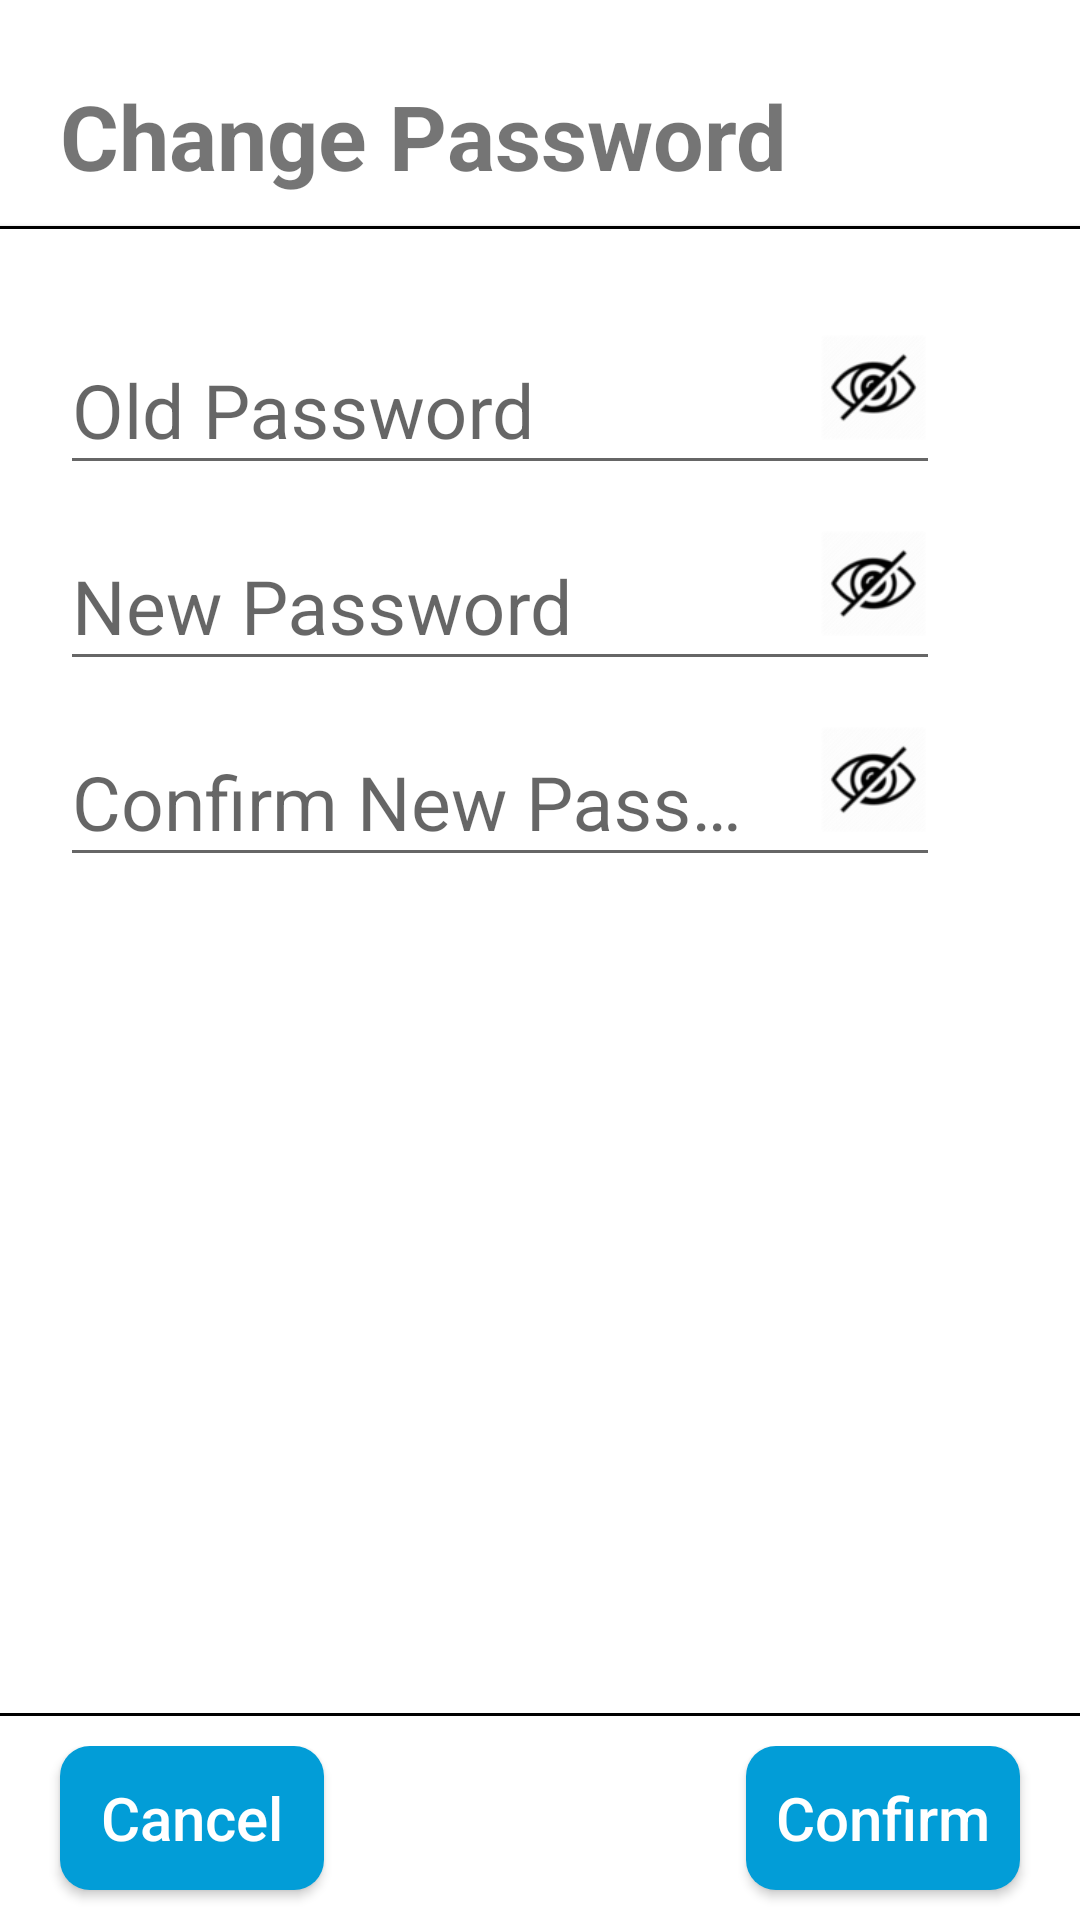

Named icons in this screenshot (1080×1920) and their centers, (x,y):
hide: (873,387), (873,583), (873,779)
